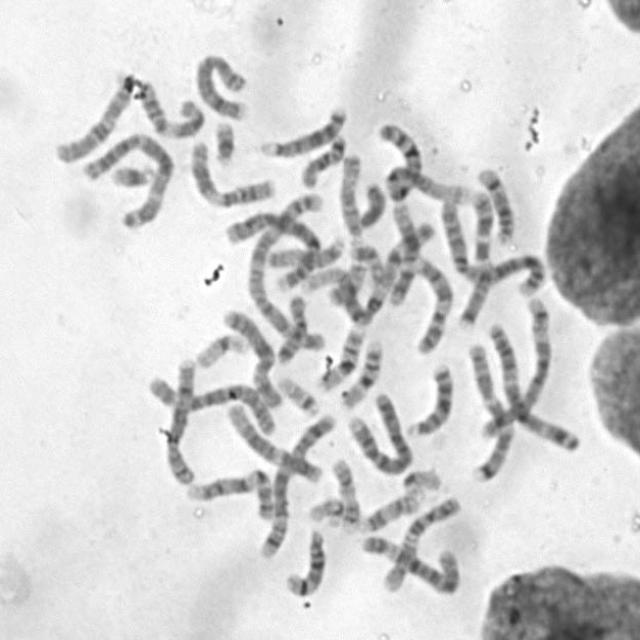A1: (298, 220, 437, 330), (376, 117, 472, 206)
A2: (244, 193, 330, 358), (435, 194, 548, 296)
A3: (485, 318, 583, 454), (75, 126, 174, 231)
B4: (220, 206, 322, 294), (342, 386, 413, 476)
B5: (255, 406, 341, 561), (478, 293, 554, 441)
C10: (378, 492, 462, 595), (52, 71, 141, 165)
C11: (184, 136, 278, 209), (132, 76, 206, 139)
C12: (222, 398, 328, 486), (384, 203, 424, 307)
C6: (142, 372, 280, 438), (358, 529, 464, 596)
C7: (462, 338, 518, 484), (458, 189, 497, 330)
C8: (163, 352, 199, 488), (192, 48, 251, 122)
C9: (180, 464, 276, 520), (410, 250, 456, 356)
D13: (255, 101, 348, 159), (402, 358, 455, 438)
D14: (472, 161, 516, 246), (282, 523, 328, 598)
D15: (263, 234, 348, 270), (335, 147, 364, 242)
E16: (314, 321, 368, 394), (335, 334, 385, 411)
E17: (356, 488, 424, 534), (328, 452, 363, 532)
E18: (297, 129, 349, 189), (272, 290, 308, 364)
F19: (191, 327, 251, 370), (398, 463, 443, 495)
F20: (324, 257, 370, 307), (345, 237, 386, 287)
G21: (209, 114, 238, 166), (106, 159, 156, 189)
G22: (274, 370, 322, 418), (304, 492, 346, 528)
X: (219, 302, 286, 412)
Y: (355, 177, 388, 229)
